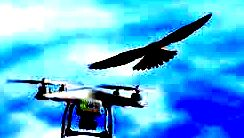Bird: (85, 11, 213, 71)
Drone: (3, 74, 147, 136)
